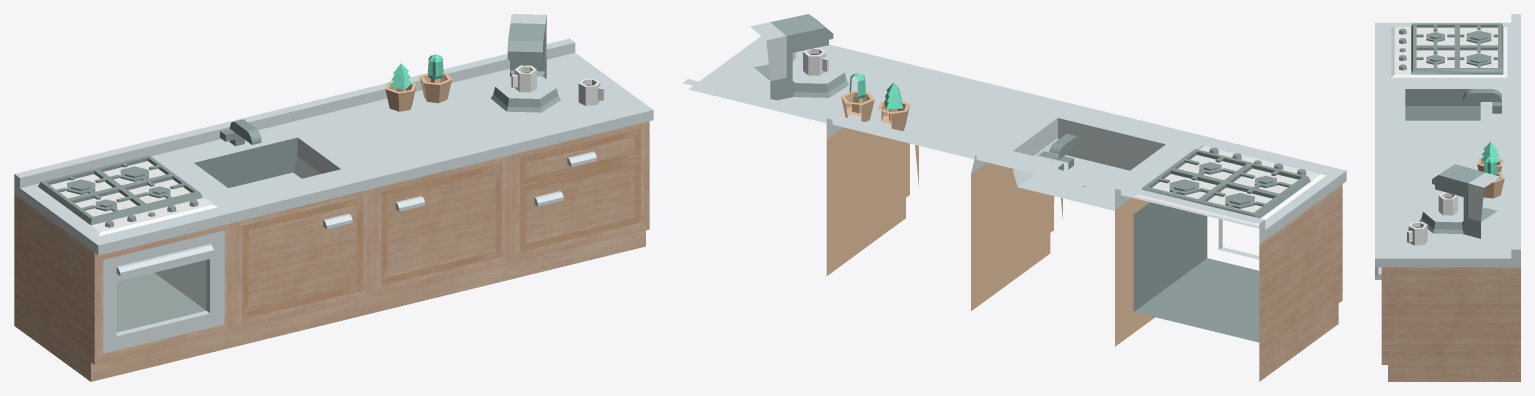
The model's file is cucina-texture.glb.
3 views of the same model, side by side, from view 1: azimuth 30°, elevation 25°; view 2: azimuth 150°, elevation 25°; view 3: azimuth 270°, elevation 25° (orthographic). The views are drawn at different scales.
Visible parts, largest first — view 1: cucina; view 2: cucina; view 3: cucina.
Boxes of the visible parts, bbox=[...] form: cucina: bbox=[14, 14, 653, 381]; cucina: bbox=[682, 14, 1346, 381]; cucina: bbox=[1375, 14, 1520, 381].
Bounding box in the file's own units: 1.72 × 0.5974 × 0.45.
Materials: 10 (2 with a texture image).
